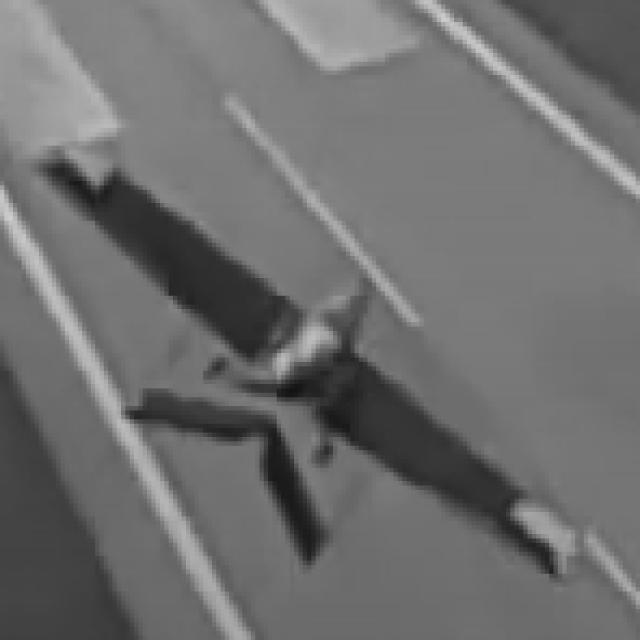iha: (39, 150, 575, 574)
